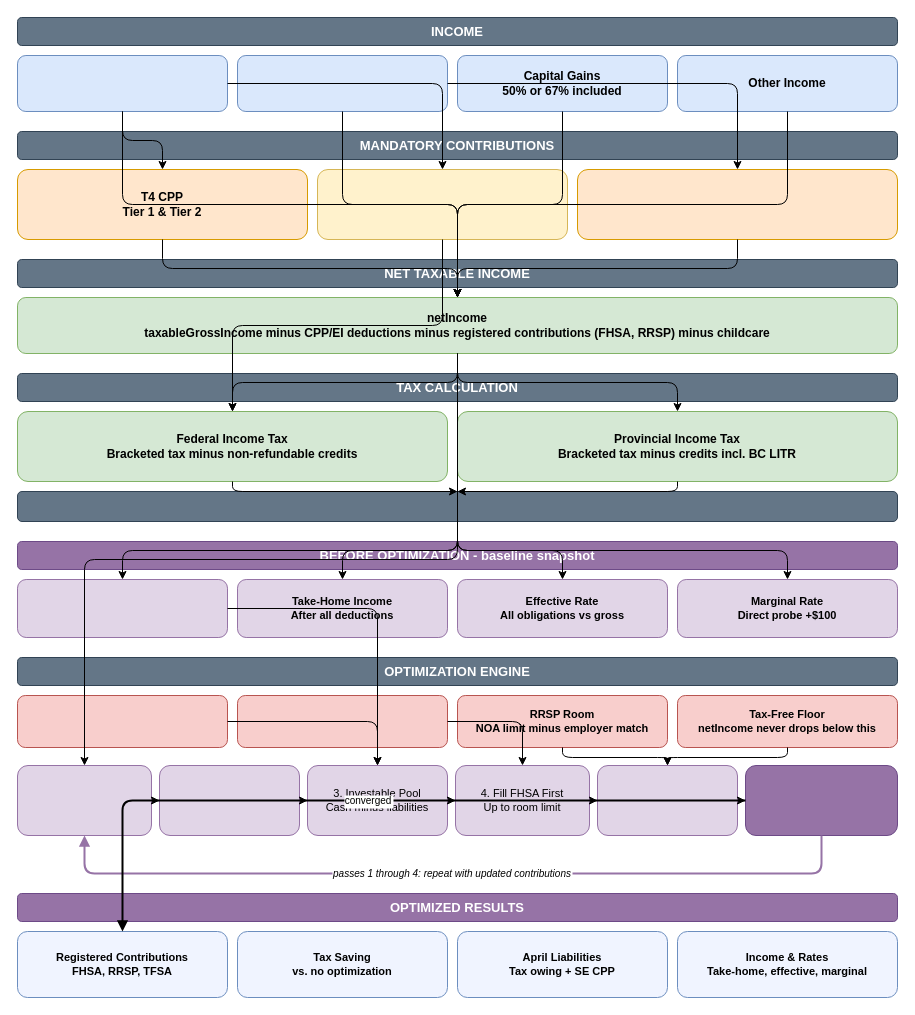
Image size: 915x1015. Some labels were removed from this diagram. The shapes that lost their labels are listed below. From the top down, each one's centre as x and y in pixels, then its label:
At (x=122, y=83): "T4 Employment".
At (x=342, y=83): "Self-Employment".
At (x=442, y=204): "Employment Insurance T4 income only".
At (x=737, y=204): "SE CPP Tier 1 & Tier 2, both sides".
At (x=457, y=506): "Total Tax = Federal + Provincial".
At (x=122, y=608): "Tax Owing April balance owing".
At (x=122, y=721): "Available Cash Monthly budget x 12".
At (x=342, y=721): "FHSA Room Annual + lifetime limit".
At (x=84, y=800): "1. Calculate Tax singlePass(rrsp, fhsa)".
At (x=229, y=800): "2. Tax Owing Employer already withheld T4 portion".
At (x=667, y=800): "5. RRSP Headroom Floor constraint applied".
At (x=821, y=800): "6. RRSP Amount Feeds back to step 1".
